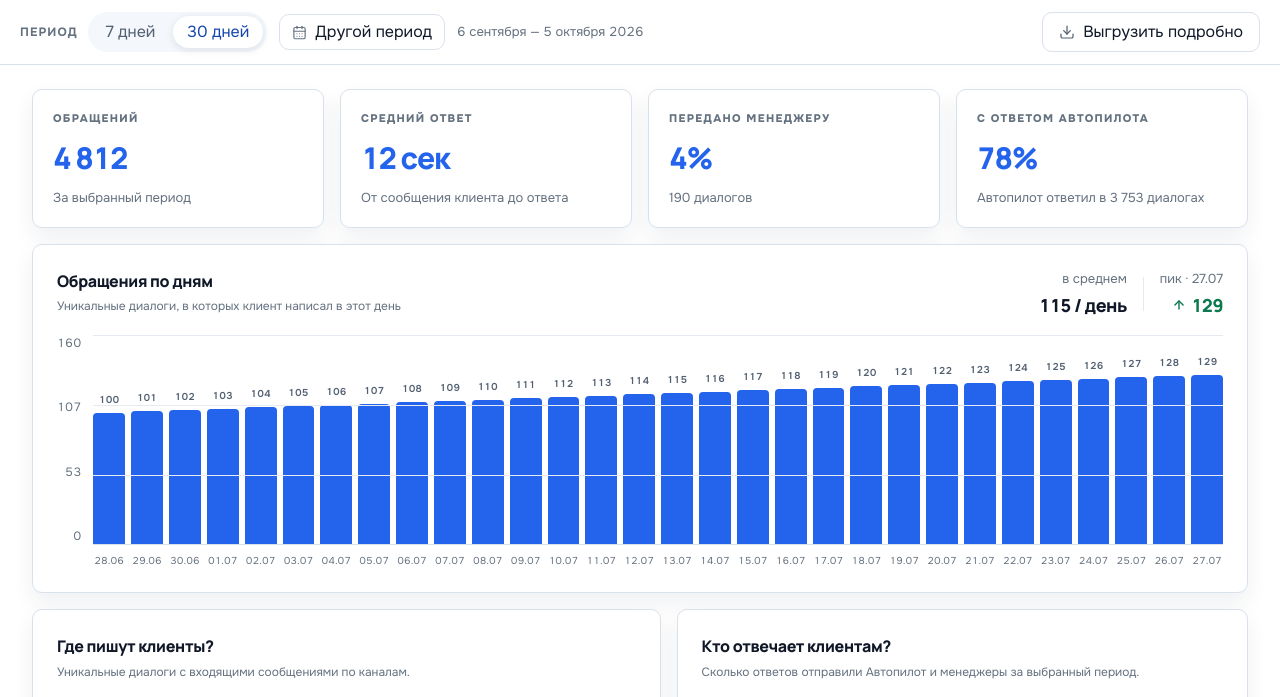
Test: AnalyticsPage › shows a backend export error returned as a Blob
Step 1. Click the button "Выгрузить подробно" → (1151, 32), box [1042, 12, 1260, 52]
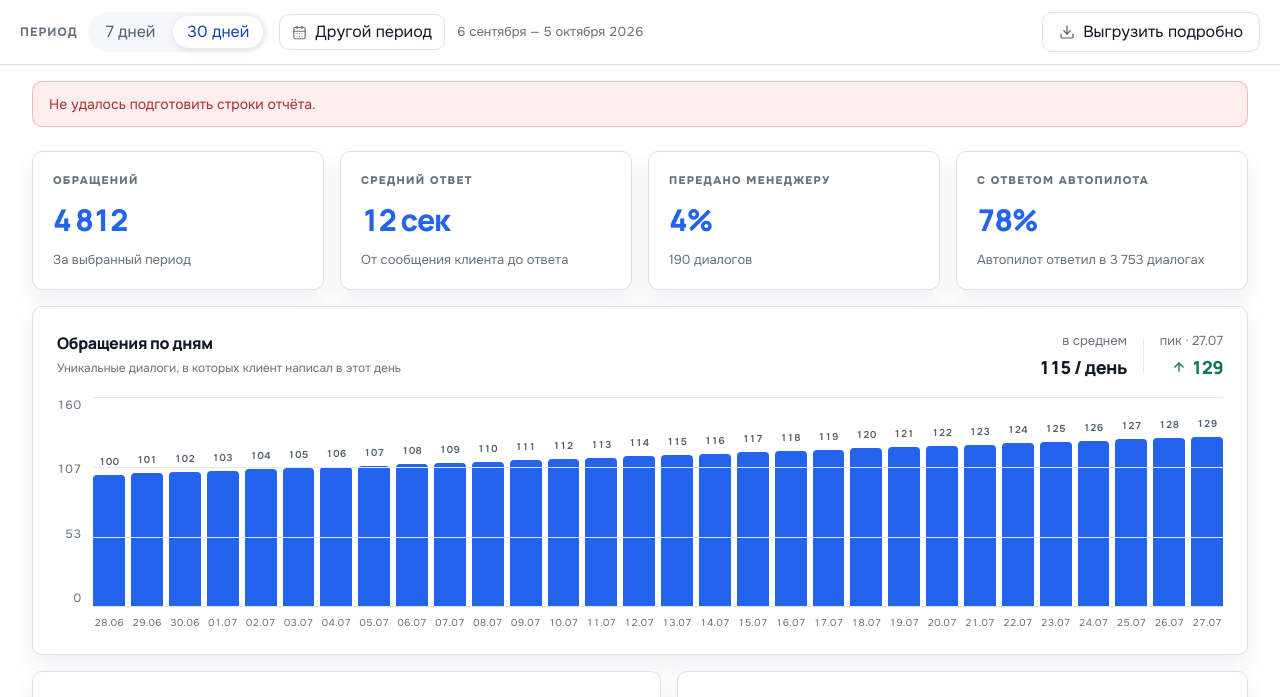
Expected: the message reads "Не удалось подготовить строки отчёта.", [49, 95, 316, 113]
